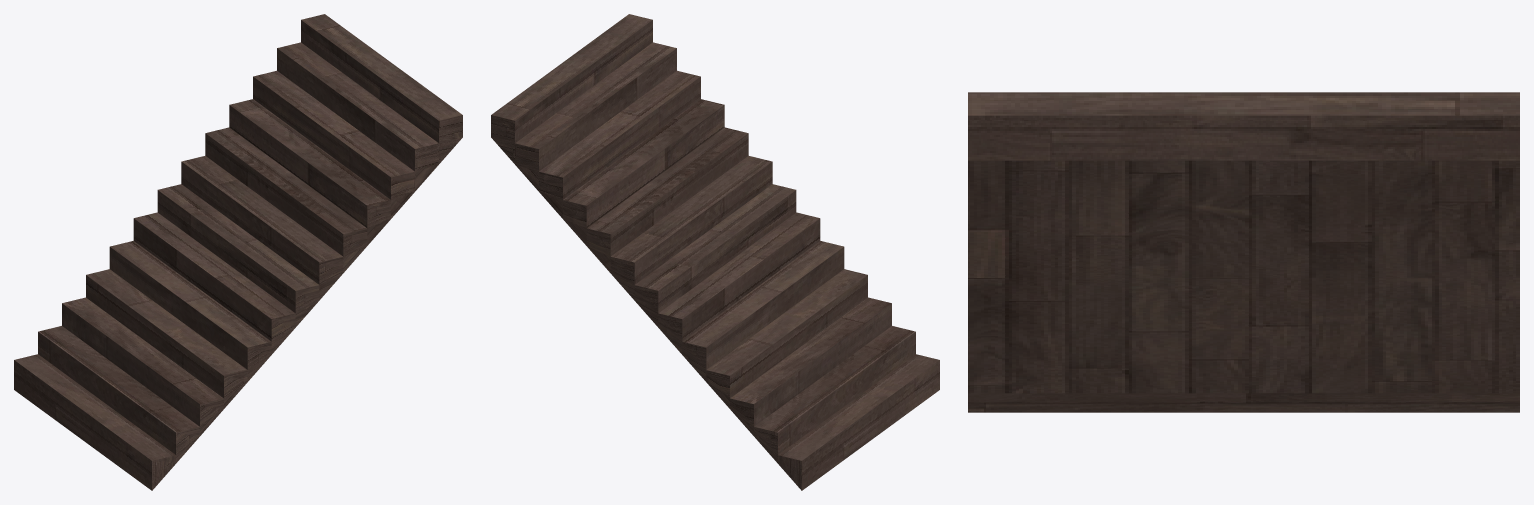
The model's file is stairs1.glb.
3 renders of one model, left to right at view 1: azimuth 30°, elevation 25°; view 2: azimuth 150°, elevation 25°; view 3: azimuth 270°, elevation 25°, orthographic. The views are drawn at different scales.
Parts seen in each view (by area): view 1: stairs1; view 2: stairs1; view 3: stairs1.
Part boxes in pixels (x1,y1,x2,y2): stairs1: (14,14,462,490); stairs1: (491,14,939,490); stairs1: (968,92,1519,412).
Bounding box in the file's own units: 2.6 × 2.4 × 2.
1 material, 1 textured.
